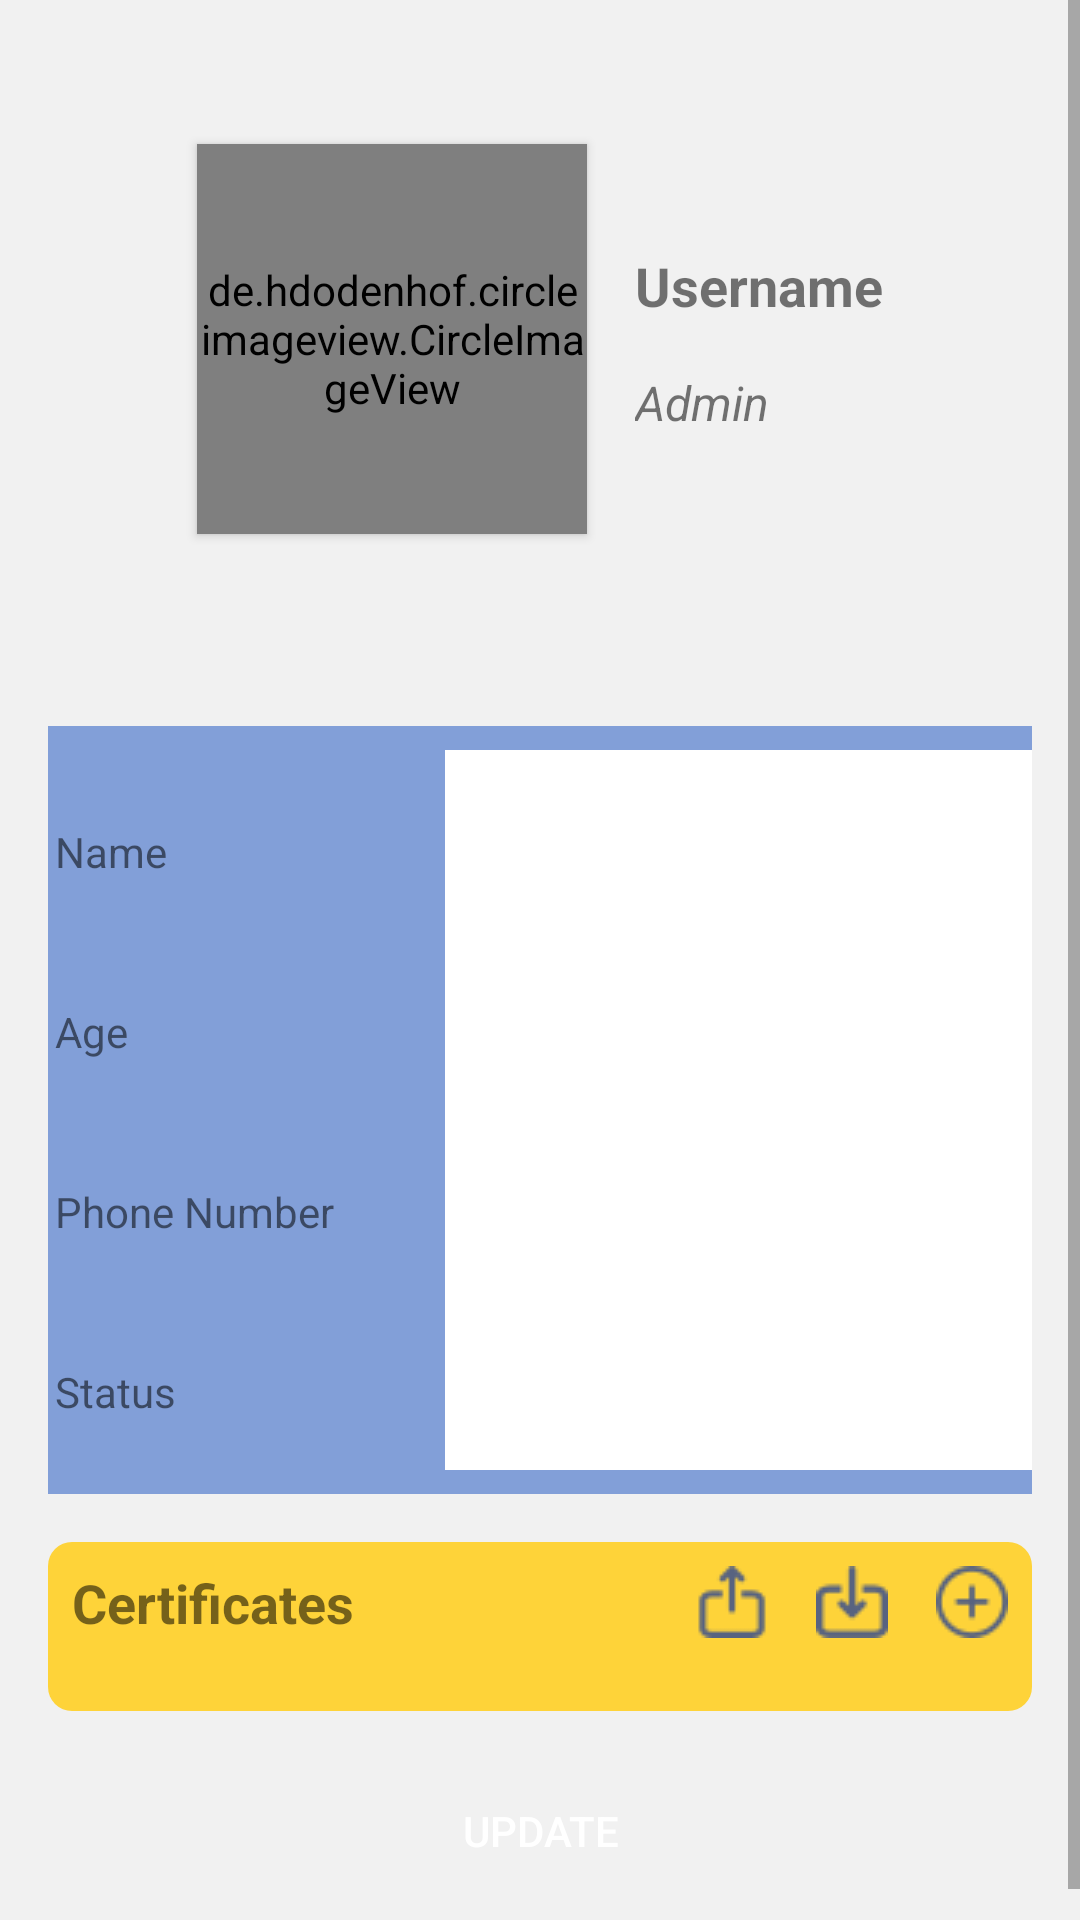

Screen size 1080px×1920px. Icon name, then its center in pixels as (x,y):
add: (972,1602)
export: (732,1602)
import: (852,1602)
